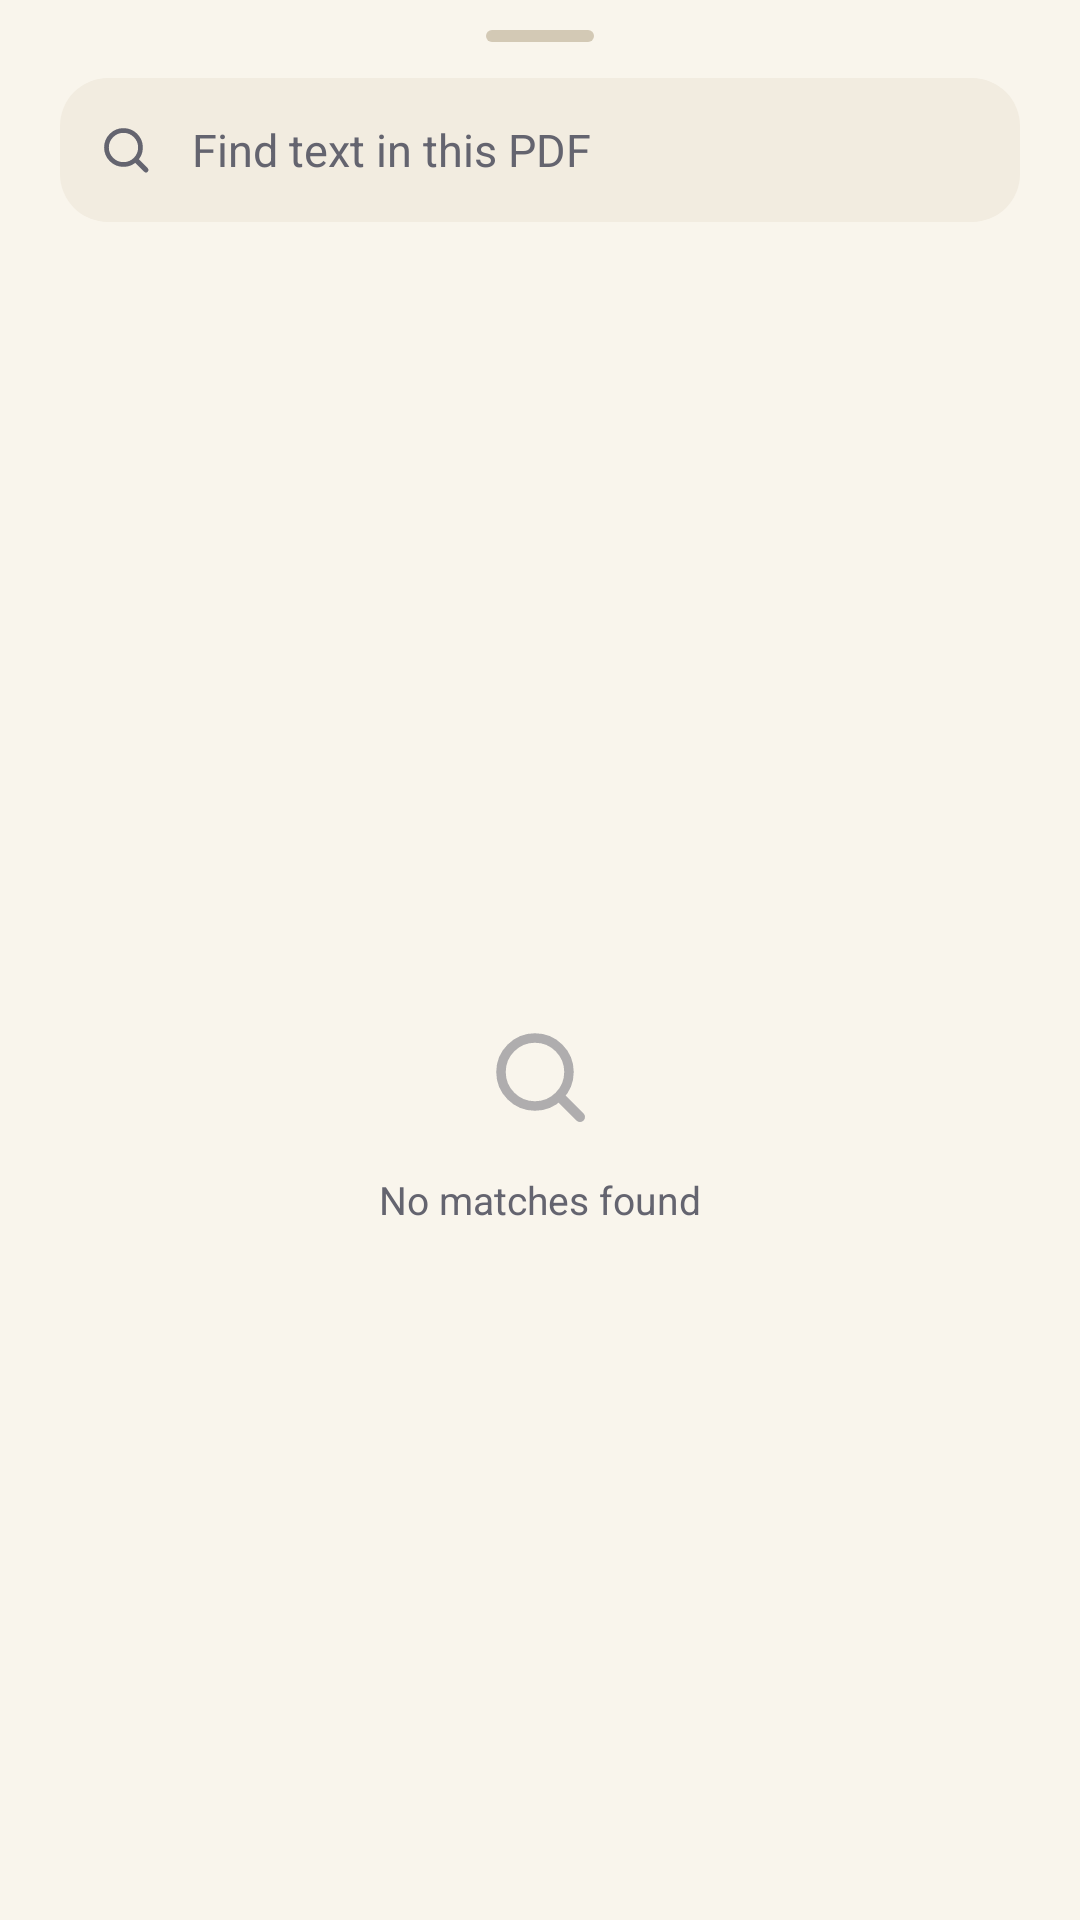

Icon bounding boxes for this 1080*1920 phone screenshot, format (x1, y1, x2, y2):
search: (104, 128, 149, 173), (496, 1033, 585, 1122)
